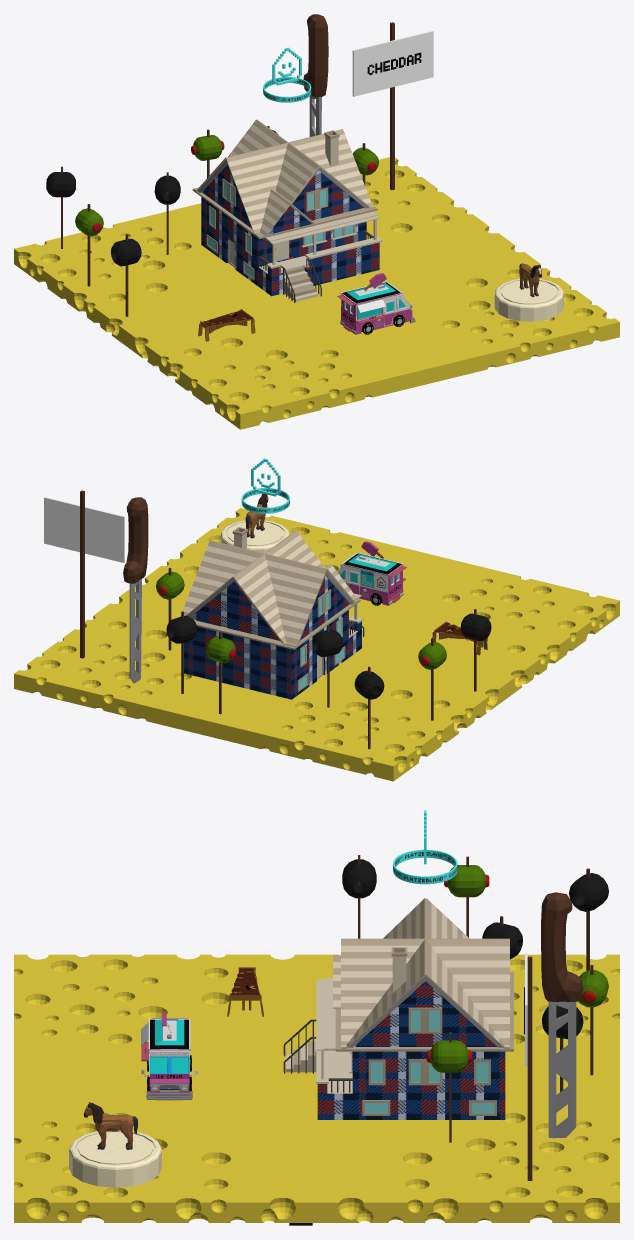
3 renders of one model, top to bottom at view 1: azimuth 30°, elevation 25°; view 2: azimuth 150°, elevation 25°; view 3: azimuth 270°, elevation 25°, orthographic. The views are drawn at different scales.
Parts seen in each view (by area): view 1: Cube.022, Cube.171, Cube.023, VEHICLES_ICE_CREAM_TRUCK, Cylinder.016, Cube.024, TYPE_PREMIUM, Sphere.017, Sphere.018, Sphere.016, Sphere.020, OBJRANDOM_MARIMBA (+2 smaller); view 2: Cube.022, Cube.171, Cube.023, Cube.024, VEHICLES_ICE_CREAM_TRUCK, Cylinder.016, TYPE_PREMIUM, Sphere.021, Sphere.017, Sphere.020, Sphere.022, Sphere.016 (+4 smaller); view 3: Cube.022, Cube.171, Cube.024, Cylinder.016, VEHICLES_ICE_CREAM_TRUCK, Cube.023, Sphere.019, Sphere.016, TYPE_PREMIUM, Sphere.017, Sphere.018, ANIMAL_CABALLO (+4 smaller).
Part boxes in pixels (bbox=[...]): Cube.022: bbox=[14, 157, 619, 429]; Cube.171: bbox=[192, 119, 382, 302]; Cube.023: bbox=[352, 22, 433, 190]; VEHICLES_ICE_CREAM_TRUCK: bbox=[337, 273, 415, 334]; Cylinder.016: bbox=[494, 278, 563, 321]; Cube.024: bbox=[303, 14, 328, 136]; TYPE_PREMIUM: bbox=[263, 47, 311, 102]; Sphere.017: bbox=[111, 234, 141, 316]; Sphere.018: bbox=[75, 204, 103, 286]; Sphere.016: bbox=[46, 166, 75, 248]; Sphere.020: bbox=[154, 172, 180, 254]; OBJRANDOM_MARIMBA: bbox=[198, 309, 255, 341]; Cube.022: bbox=[14, 508, 619, 781]; Cube.171: bbox=[179, 527, 364, 699]; Cube.023: bbox=[44, 490, 124, 658]; Cube.024: bbox=[123, 497, 148, 683]; VEHICLES_ICE_CREAM_TRUCK: bbox=[337, 541, 406, 605]; Cylinder.016: bbox=[220, 519, 289, 553]; TYPE_PREMIUM: bbox=[241, 458, 289, 513]; Sphere.021: bbox=[166, 611, 197, 693]; Sphere.017: bbox=[460, 609, 491, 691]; Sphere.020: bbox=[312, 625, 342, 707]; Sphere.022: bbox=[205, 631, 236, 714]; Sphere.016: bbox=[354, 666, 384, 749]; Cube.022: bbox=[14, 954, 619, 1222]; Cube.171: bbox=[283, 898, 513, 1119]; Cube.024: bbox=[541, 892, 583, 1138]; Cylinder.016: bbox=[69, 1130, 161, 1187]; VEHICLES_ICE_CREAM_TRUCK: bbox=[141, 1012, 197, 1100]; Cube.023: bbox=[524, 953, 532, 1180]; Sphere.019: bbox=[426, 1032, 472, 1142]; Sphere.016: bbox=[569, 868, 608, 970]; TYPE_PREMIUM: bbox=[393, 810, 457, 884]; Sphere.017: bbox=[342, 855, 376, 938]; Sphere.018: bbox=[444, 856, 489, 937]; ANIMAL_CABALLO: bbox=[83, 1102, 137, 1149].
Size of the model in its own units: 3917 by 2232 by 4000.
46 materials, 5 textured.
